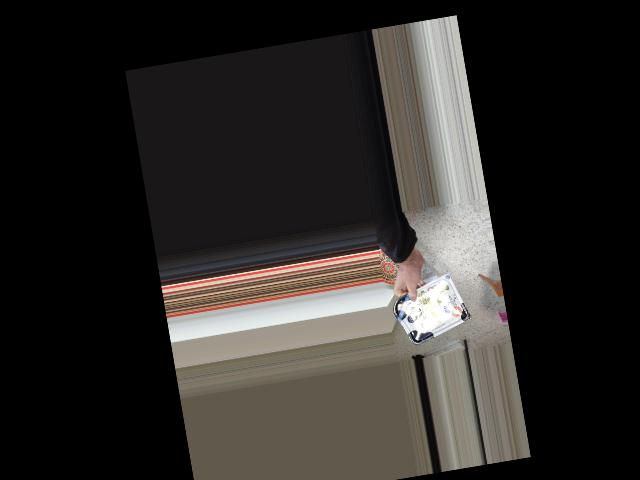cheese: (394, 284, 464, 340)
